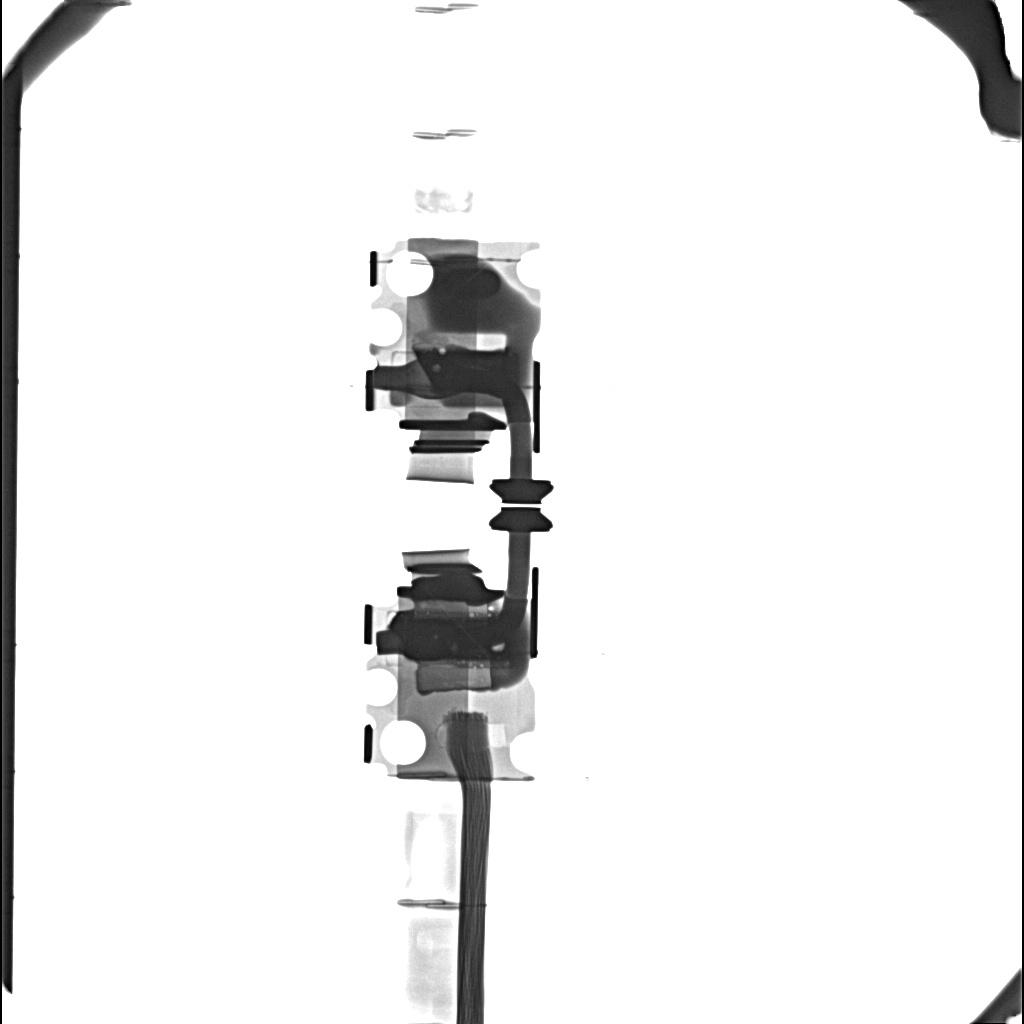defect: (404, 617, 515, 660), (419, 351, 517, 394), (416, 663, 494, 693), (411, 343, 447, 350)
